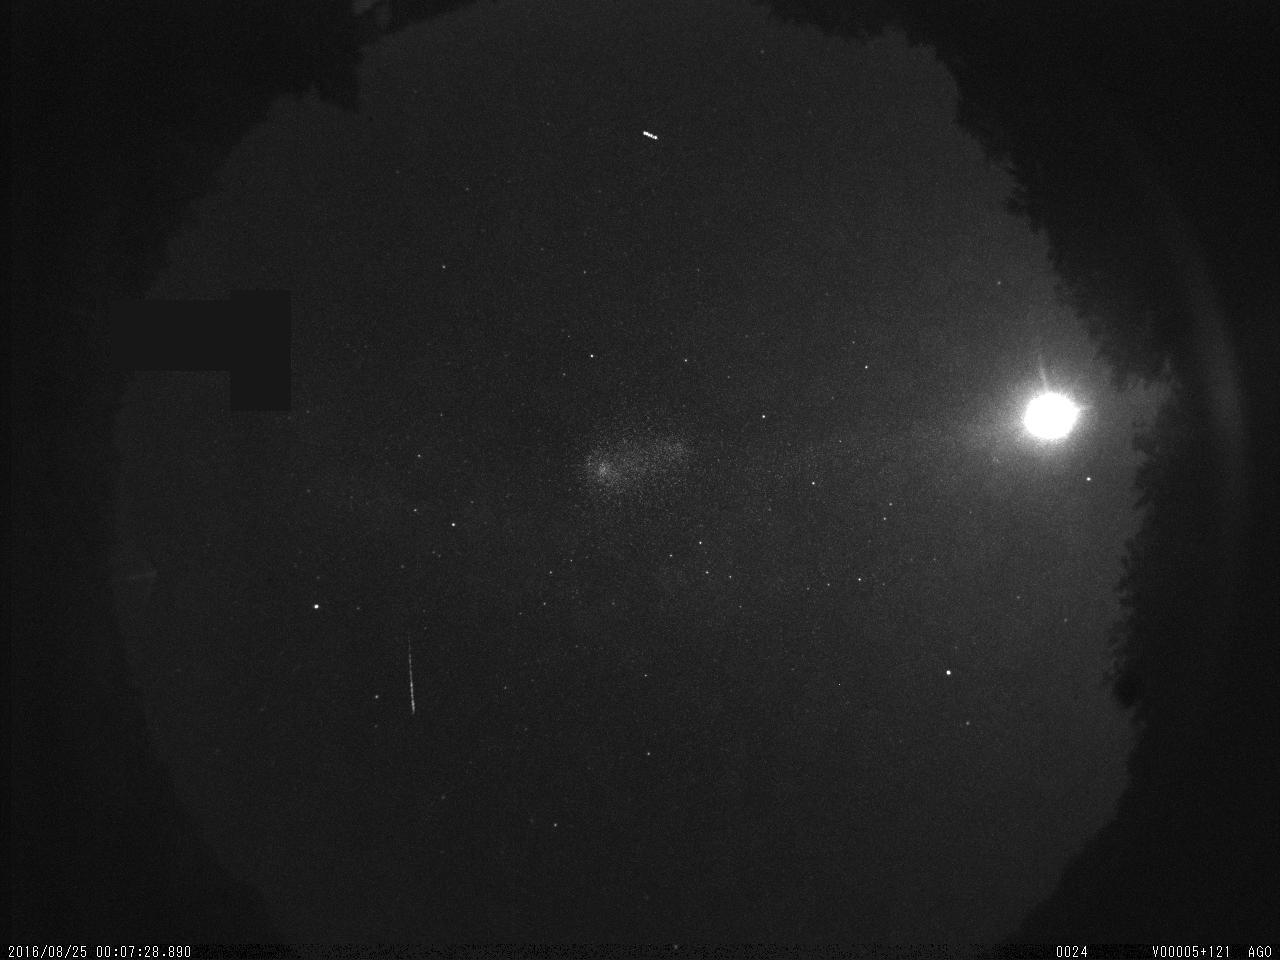Meteor: (402, 630, 420, 720)
